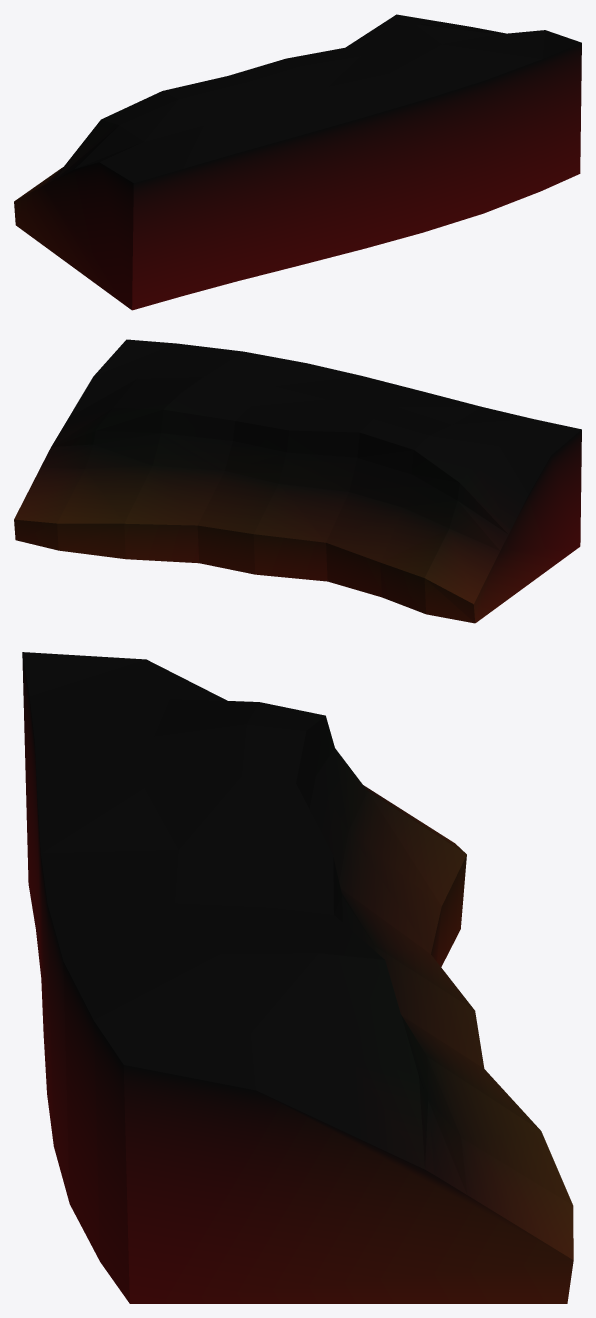
Rendered from SM_ShorelineSite_BankEast.fbx.
The picture shows the model from 3 angles, top to bottom: view 1: azimuth 30°, elevation 25°; view 2: azimuth 150°, elevation 25°; view 3: azimuth 270°, elevation 25°; orthographic projection. The views are drawn at different scales.
Visible parts, largest first — view 1: SM_ShorelineSite_BankEast; view 2: SM_ShorelineSite_BankEast; view 3: SM_ShorelineSite_BankEast.
Boxes of the visible parts, bbox=[...] form: SM_ShorelineSite_BankEast: bbox=[14, 14, 581, 310]; SM_ShorelineSite_BankEast: bbox=[14, 339, 581, 623]; SM_ShorelineSite_BankEast: bbox=[22, 652, 573, 1303].
Size of the model in its own units: 4 by 2.22 by 1.15.
